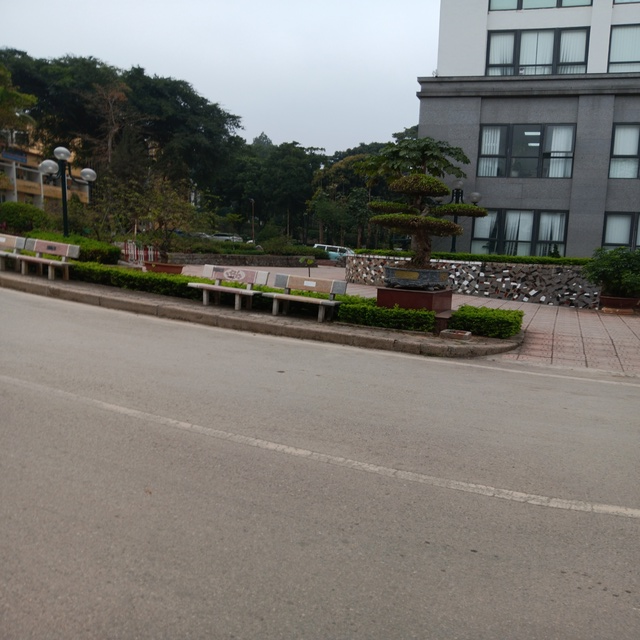gheda: (182, 256, 268, 317), (264, 268, 352, 325), (15, 241, 86, 288), (1, 228, 26, 276)
